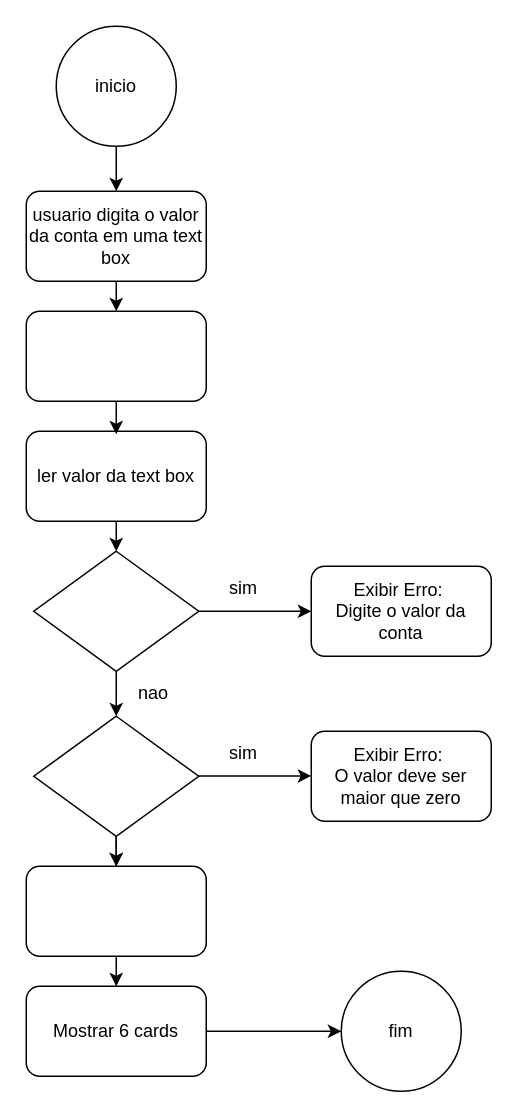
This 518x1118 diagram has some shape labels left out. The centre of each missing label's shape, as x and y in pixels:
"Processar calculo" goes at (x=115, y=910).
"usuario clica no botão calcular" goes at (x=115, y=355).
"Valor <= 0?" goes at (x=115, y=775).
"valor é Vazio (None)" goes at (x=115, y=610).
